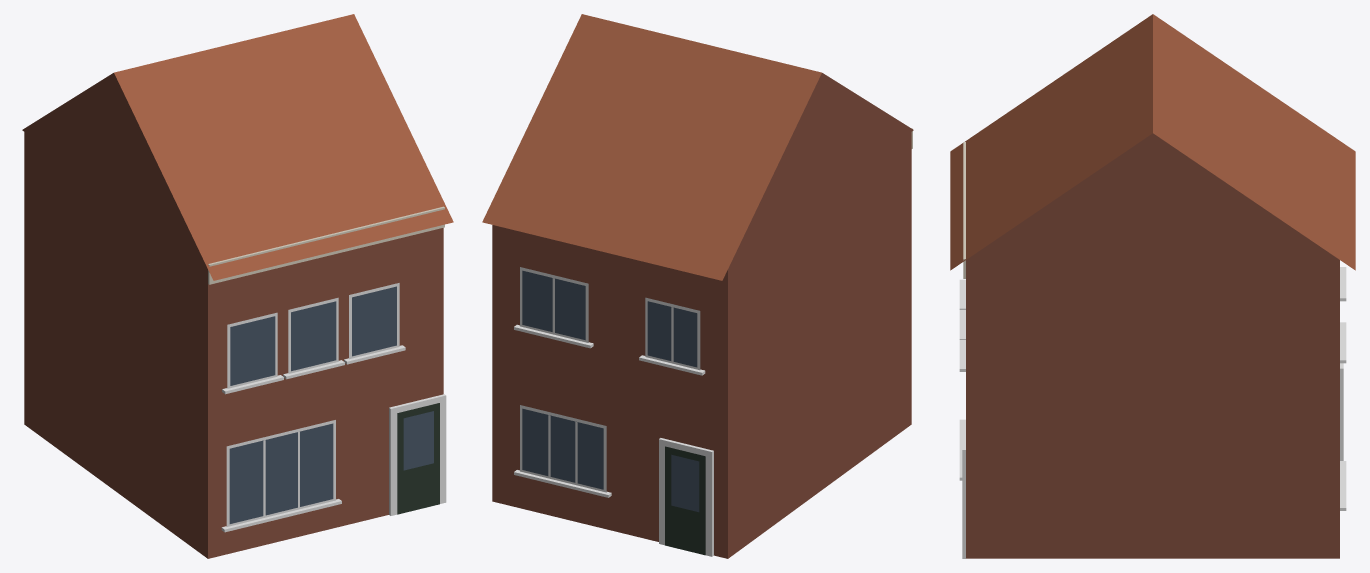
Rendered from nd-bz-brick-row__green-door__2__gable__long__solid__mirror.glb.
3 renders of one model, left to right at view 1: azimuth 30°, elevation 25°; view 2: azimuth 150°, elevation 25°; view 3: azimuth 270°, elevation 25°, orthographic.
Visible parts, largest first — view 1: nd-bz-brick-row__green-door__2__gable__long__solid__mirror; view 2: nd-bz-brick-row__green-door__2__gable__long__solid__mirror; view 3: nd-bz-brick-row__green-door__2__gable__long__solid__mirror.
Boxes of the visible parts, bbox=[...] form: nd-bz-brick-row__green-door__2__gable__long__solid__mirror: bbox=[22, 14, 453, 558]; nd-bz-brick-row__green-door__2__gable__long__solid__mirror: bbox=[482, 14, 913, 558]; nd-bz-brick-row__green-door__2__gable__long__solid__mirror: bbox=[950, 14, 1355, 558].
Bounding box in the file's own units: 5.33 × 8.89 × 7.66.
